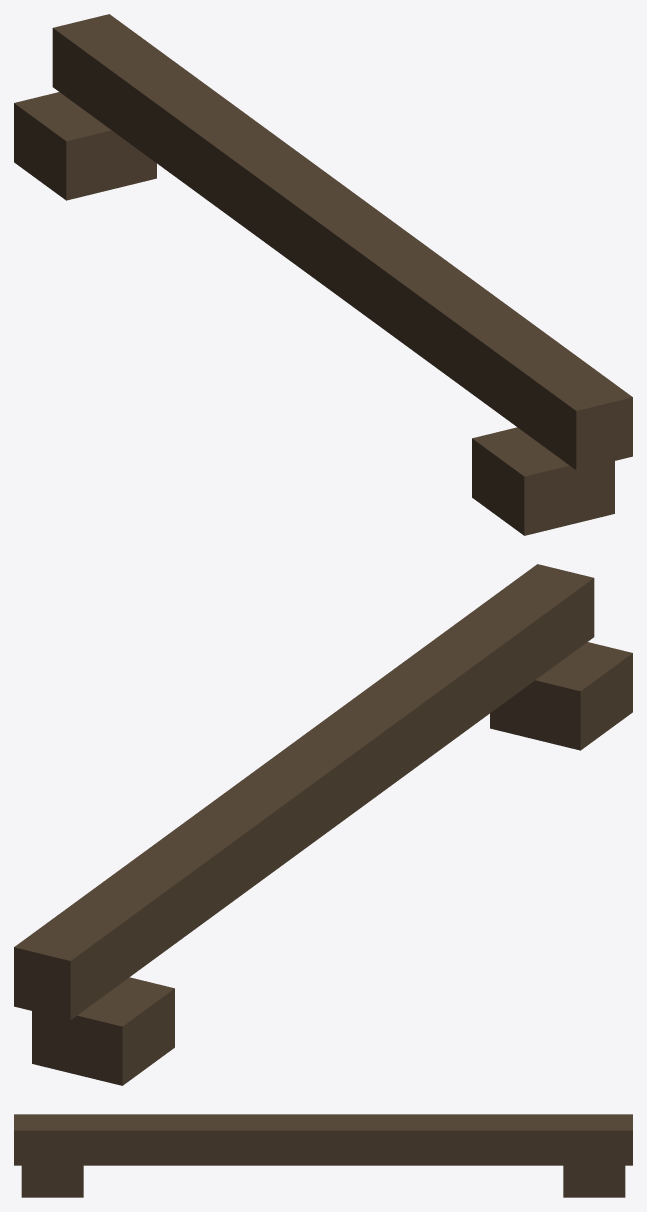
The model's file is SM_foundWood_01.glb.
The picture shows the model from 3 angles, top to bottom: view 1: azimuth 30°, elevation 25°; view 2: azimuth 150°, elevation 25°; view 3: azimuth 270°, elevation 25°; orthographic projection. The views are drawn at different scales.
Visible parts, largest first — view 1: SM_foundWood_01; view 2: SM_foundWood_01; view 3: SM_foundWood_01.
Part boxes in pixels (x1=…): SM_foundWood_01: x1=14, y1=14, x2=632, y2=535; SM_foundWood_01: x1=14, y1=564, x2=632, y2=1085; SM_foundWood_01: x1=14, y1=1114, x2=632, y2=1197.
Bounding box in the file's own units: 0.45 × 0.5 × 4.
Materials: 1 (1 with a texture image).
